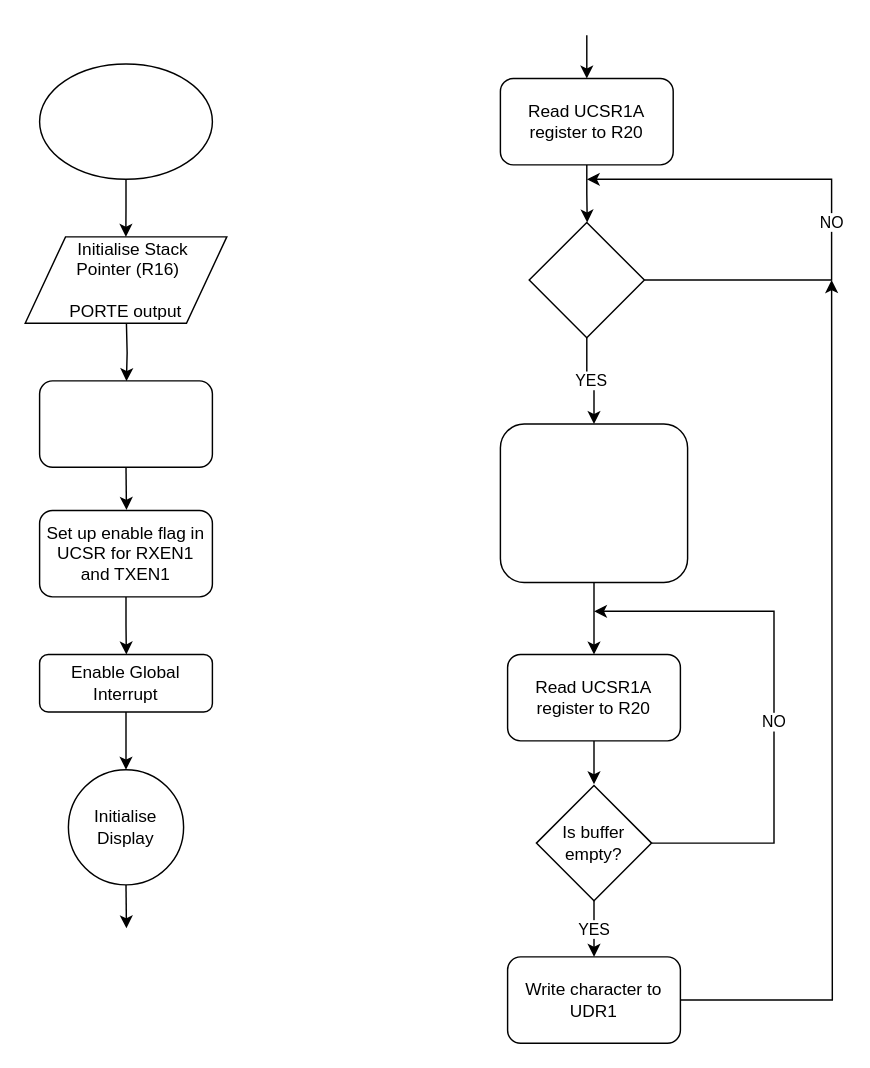
The diagram is 870 pixels wide and 1068 high, and some of its shapes have lost their labels. Each missing label, with the centre of its shape:
"New Character?" goes at point (586, 279).
"Read Character in UDR Copy R23 into R17 Write character" goes at point (593, 502).
"Set UBRR as 23" goes at point (125, 423).
"Start" goes at point (125, 121).
